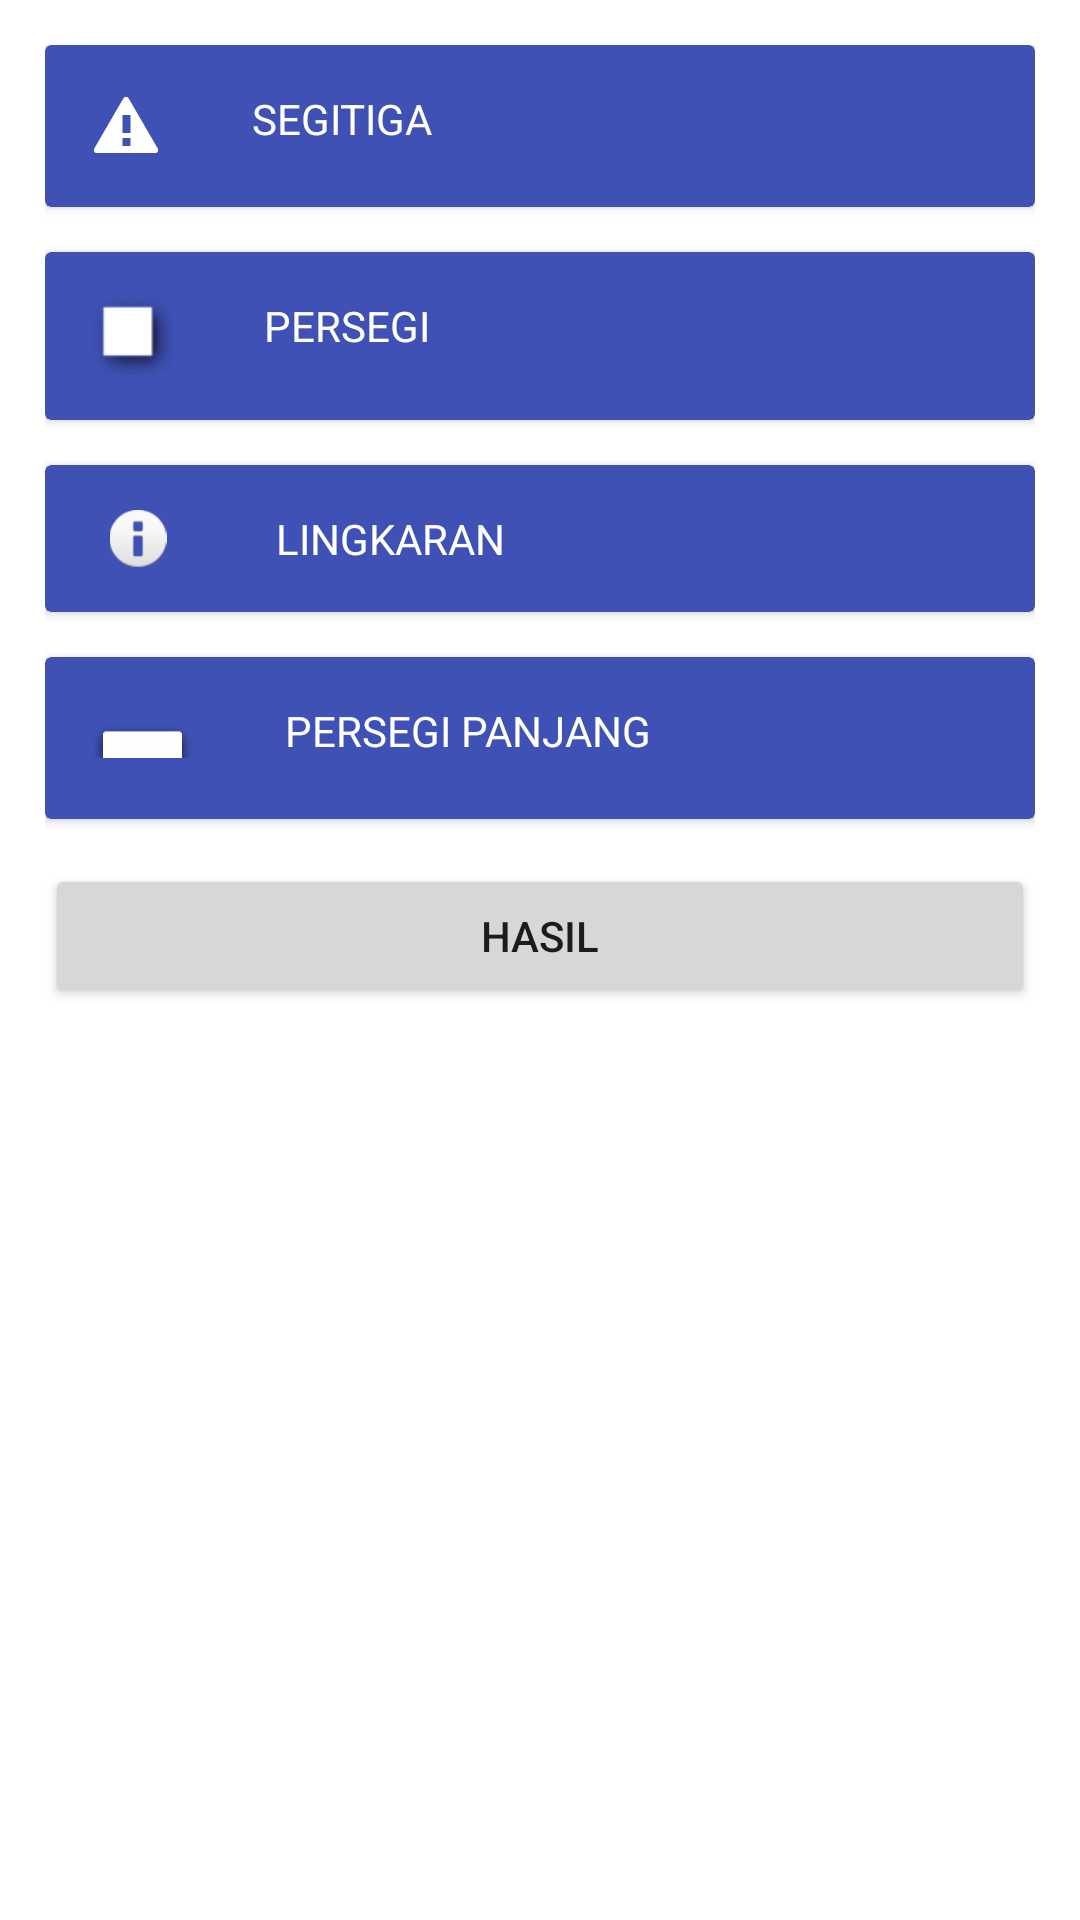

Screen size 1080px x 1920px. Icon name, then its box in pixels as (x1, y1, x2, y2):
error: (45, 45, 207, 207)
info: (45, 465, 231, 612)
